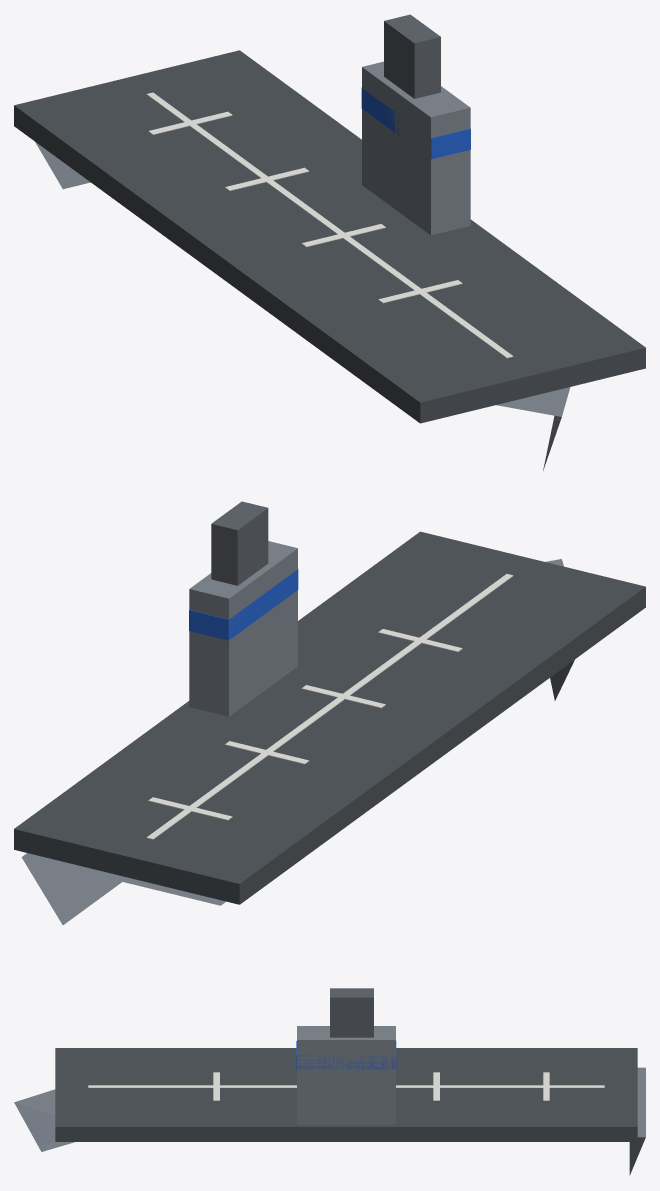
File: carrier.glb
The picture shows the model from 3 angles, top to bottom: view 1: azimuth 30°, elevation 25°; view 2: azimuth 150°, elevation 25°; view 3: azimuth 270°, elevation 25°; orthographic projection. The views are drawn at different scales.
Parts seen in each view (by area): view 1: carrier; view 2: carrier; view 3: carrier.
Part boxes in pixels (<box>): carrier: <box>14,14,645,470</box>; carrier: <box>14,501,645,924</box>; carrier: <box>14,988,645,1175</box>.
Size of the model in its own units: 0.34 by 0.38 by 1.15.
